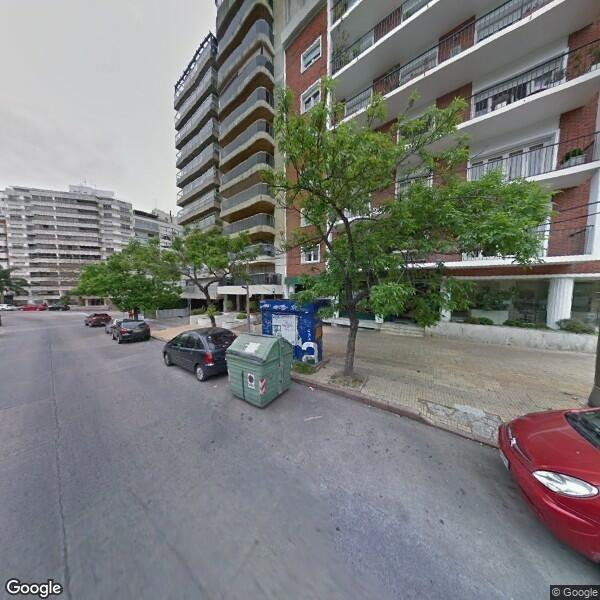Trash: (225, 331, 299, 410)
